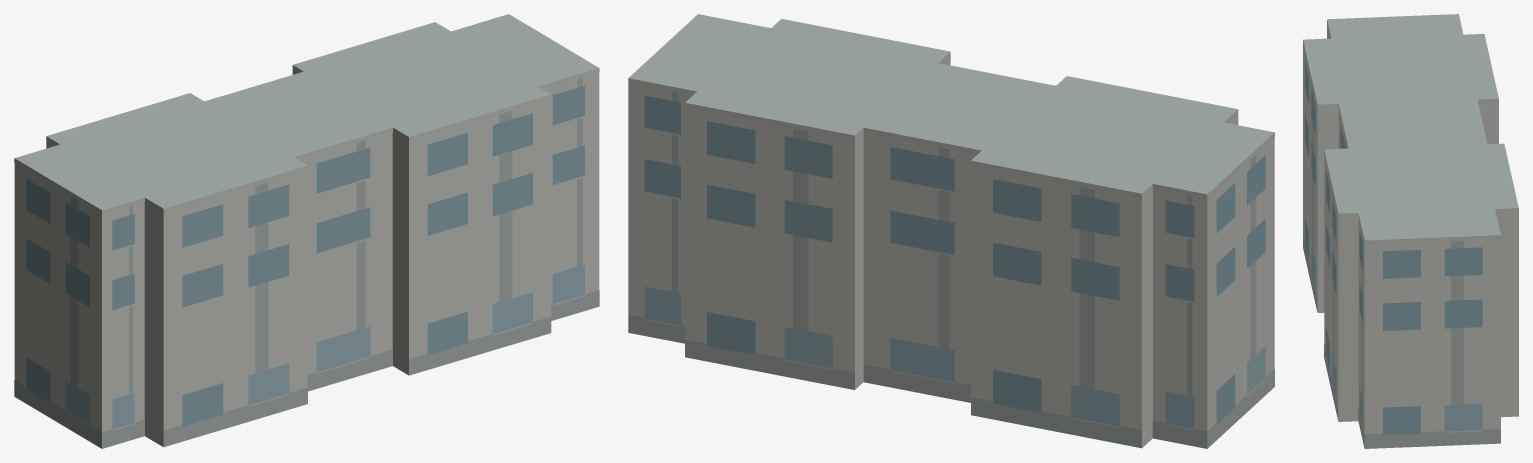
The model's file is survey-upis-33006265.glb.
3 views of the same model, side by side, from view 1: azimuth 30°, elevation 25°; view 2: azimuth 150°, elevation 25°; view 3: azimuth 270°, elevation 25° (orthographic). The views are drawn at different scales.
Parts seen in each view (by area): view 1: survey-upis-33006265.tmp; view 2: survey-upis-33006265.tmp; view 3: survey-upis-33006265.tmp.
Part boxes in pixels (bbox=[...]): survey-upis-33006265.tmp: bbox=[14, 14, 599, 448]; survey-upis-33006265.tmp: bbox=[628, 14, 1274, 448]; survey-upis-33006265.tmp: bbox=[1303, 14, 1518, 448].
Size of the model in its own units: 28.43 by 12.2 by 11.45.
